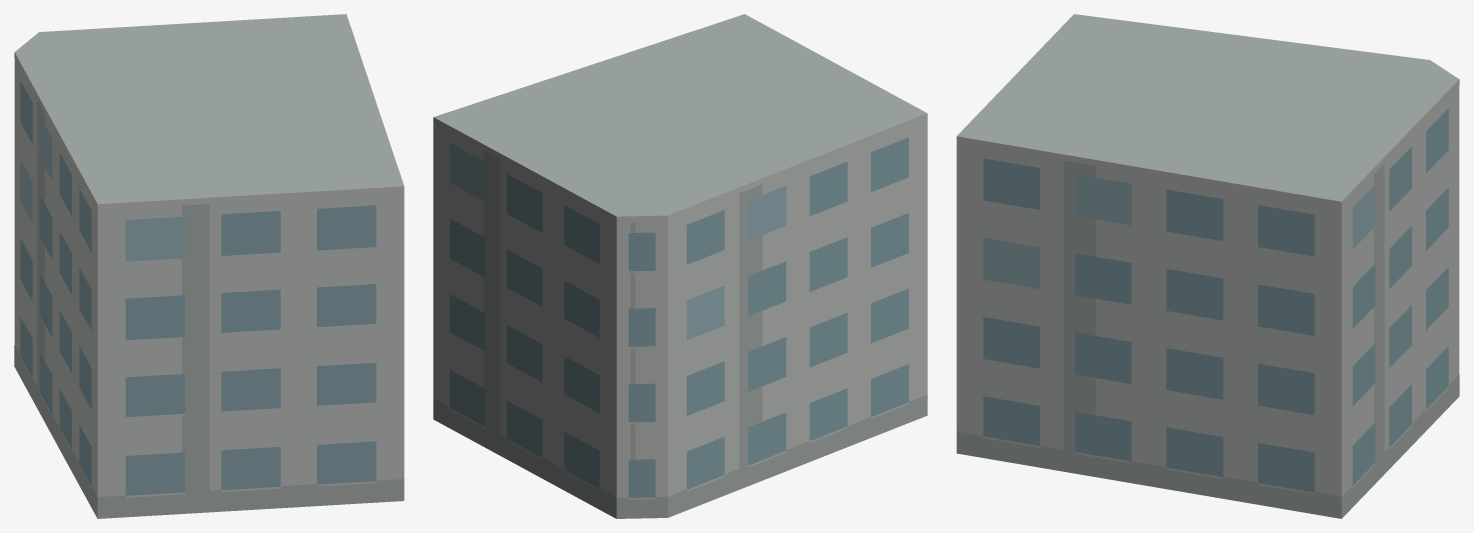
File: survey-upis-32697723.glb
3 views of the same model, side by side, from view 1: azimuth 30°, elevation 25°; view 2: azimuth 150°, elevation 25°; view 3: azimuth 270°, elevation 25° (orthographic). The views are drawn at different scales.
Visible parts, largest first — view 1: survey-upis-32697723.tmp; view 2: survey-upis-32697723.tmp; view 3: survey-upis-32697723.tmp.
Part boxes in pixels (x1=…): survey-upis-32697723.tmp: x1=14, y1=14, x2=404, y2=518; survey-upis-32697723.tmp: x1=433, y1=14, x2=927, y2=518; survey-upis-32697723.tmp: x1=956, y1=14, x2=1459, y2=518.
Bounding box in the file's own units: 15.49 × 12.2 × 17.54.
